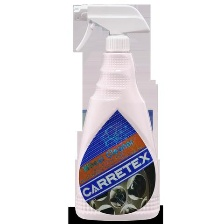cleaning_solution: (70, 2, 162, 222)
